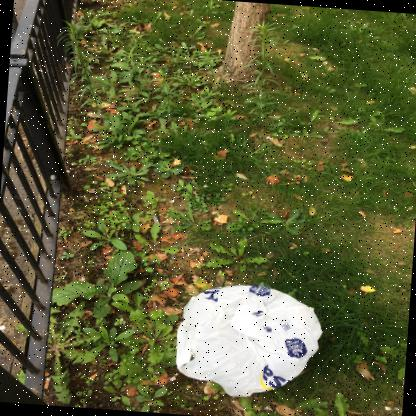Single-use carrier bag: (176, 285, 323, 397)
